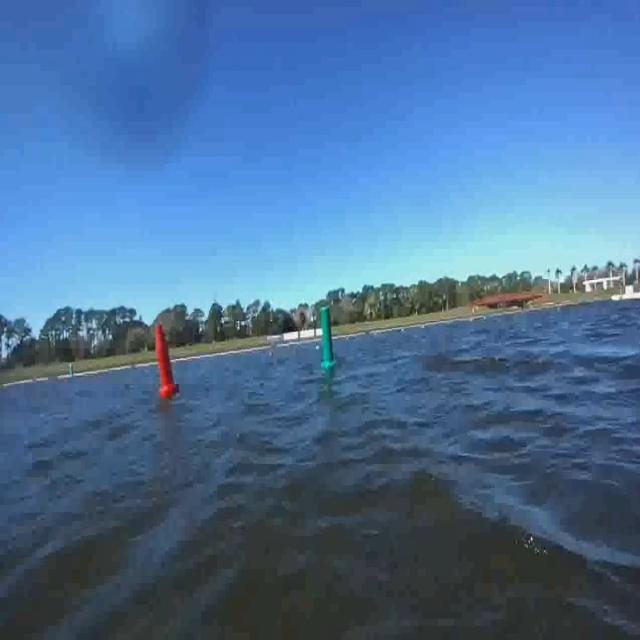green-column-buoy: (319, 306, 337, 370)
red-column-buoy: (154, 323, 180, 396)
